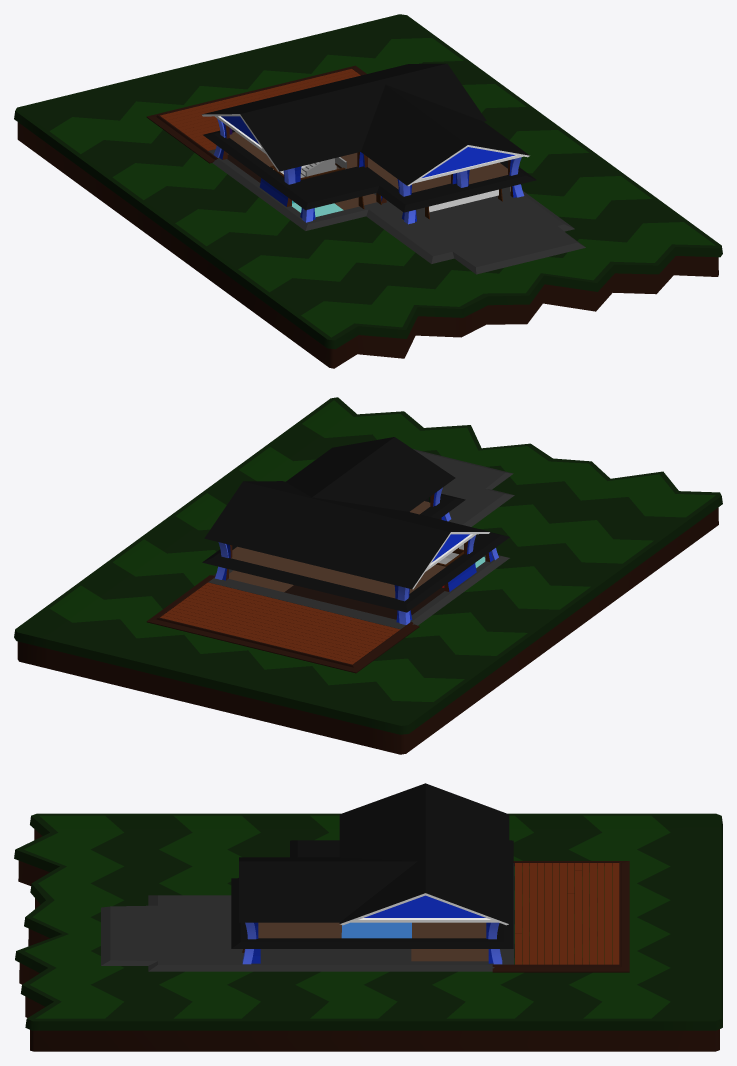
Rendered from HouseLevelOne_Indestructables_unwrapped.FBX.
The picture shows the model from 3 angles, top to bottom: view 1: azimuth 30°, elevation 25°; view 2: azimuth 150°, elevation 25°; view 3: azimuth 270°, elevation 25°; orthographic projection. The views are drawn at different scales.
Visible parts, largest first — view 1: Grass, Box319, GroundLayer, Dirt, SecondLayer, House_Walls_Indestructable; view 2: Grass, Box319, GroundLayer, Dirt, SecondLayer, House_Walls_Indestructable; view 3: Grass, GroundLayer, Box319, Dirt, SecondLayer, House_Walls_Indestructable.
Boxes of the visible parts, x1,y1,x2,y2 form: Grass: (14, 14, 722, 349); Box319: (201, 63, 529, 186); GroundLayer: (146, 65, 585, 274); Dirt: (17, 122, 718, 368); SecondLayer: (203, 130, 536, 212); House_Walls_Indestructable: (214, 118, 524, 224); Grass: (14, 397, 722, 734); Box319: (204, 437, 489, 589); GroundLayer: (146, 449, 514, 673); Dirt: (17, 507, 718, 754); SecondLayer: (202, 493, 509, 612); House_Walls_Indestructable: (215, 487, 498, 624); Grass: (14, 813, 722, 1030); GroundLayer: (101, 861, 629, 972); Box319: (239, 783, 509, 925); Dirt: (18, 829, 719, 1051); SecondLayer: (231, 840, 513, 948); House_Walls_Indestructable: (242, 922, 502, 964).
Size of the model in its own units: 10237 by 2530 by 14701.
